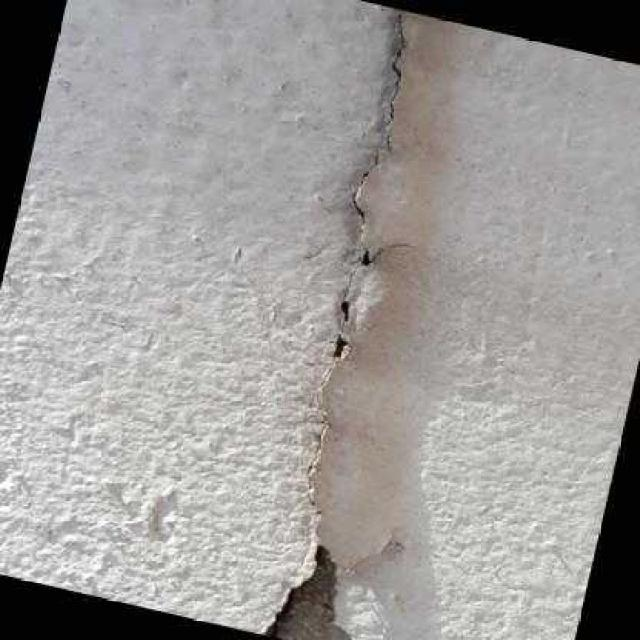D00: (303, 9, 407, 547)
